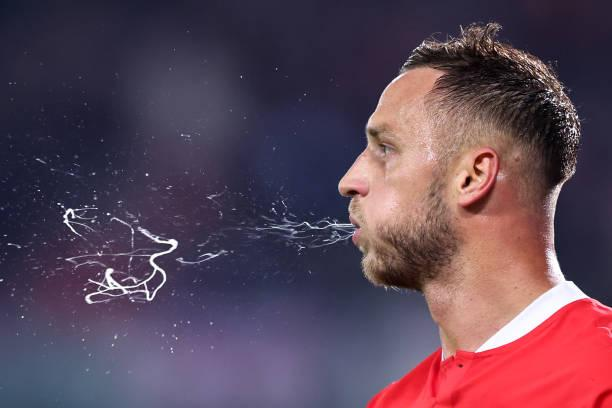Spitting: (305, 36, 582, 283)
